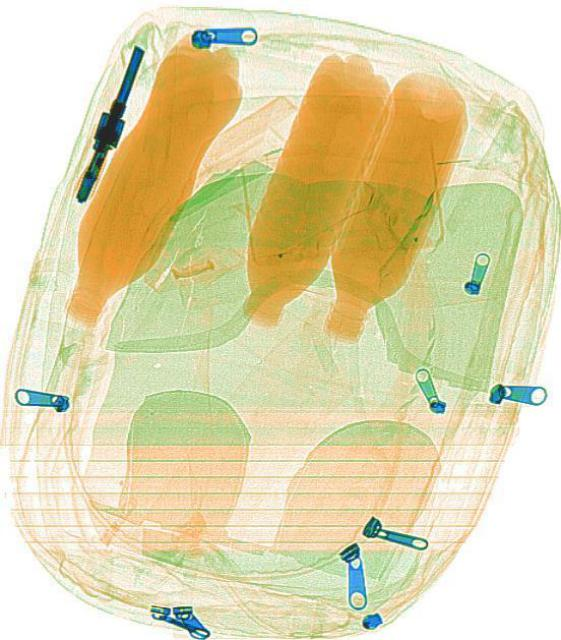Gun: (70, 36, 149, 204)
